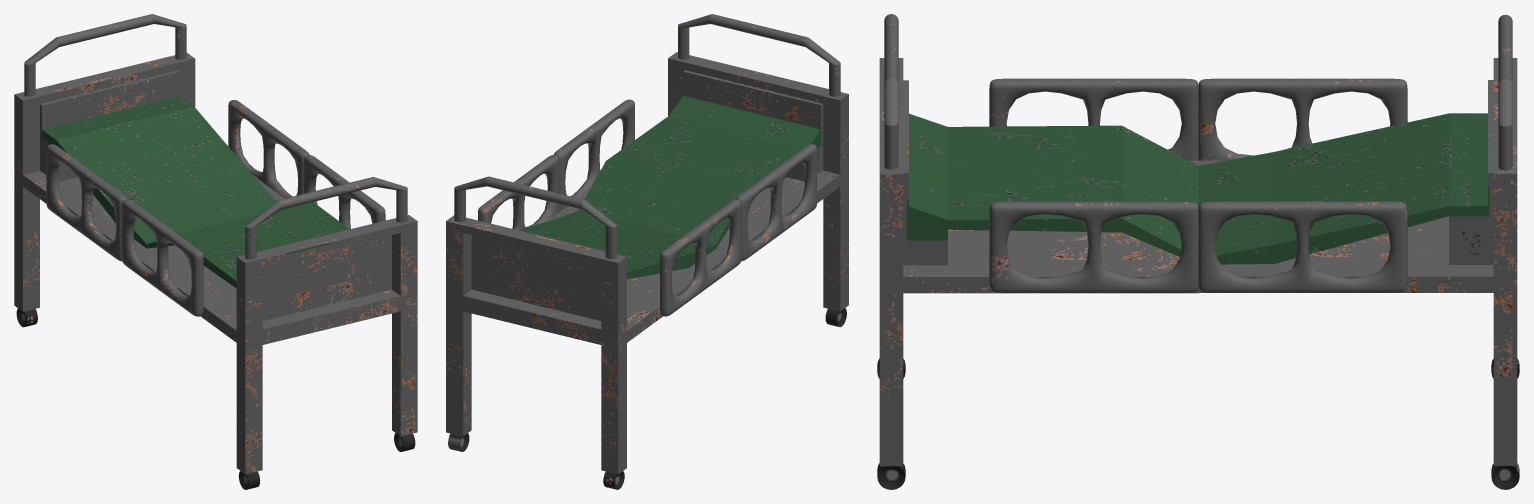
File: MacaRE1.fbx
The picture shows the model from 3 angles, left to right: view 1: azimuth 30°, elevation 25°; view 2: azimuth 150°, elevation 25°; view 3: azimuth 270°, elevation 25°; orthographic projection. The views are drawn at different scales.
Parts seen in each view (by area): view 1: Maca; view 2: Maca; view 3: Maca.
Part boxes in pixels (<box>): Maca: <box>14,14,417,489</box>; Maca: <box>446,14,848,489</box>; Maca: <box>877,14,1519,489</box>.
Size of the model in its own units: 3.19 by 4.45 by 6.69.
1 material, 1 textured.
